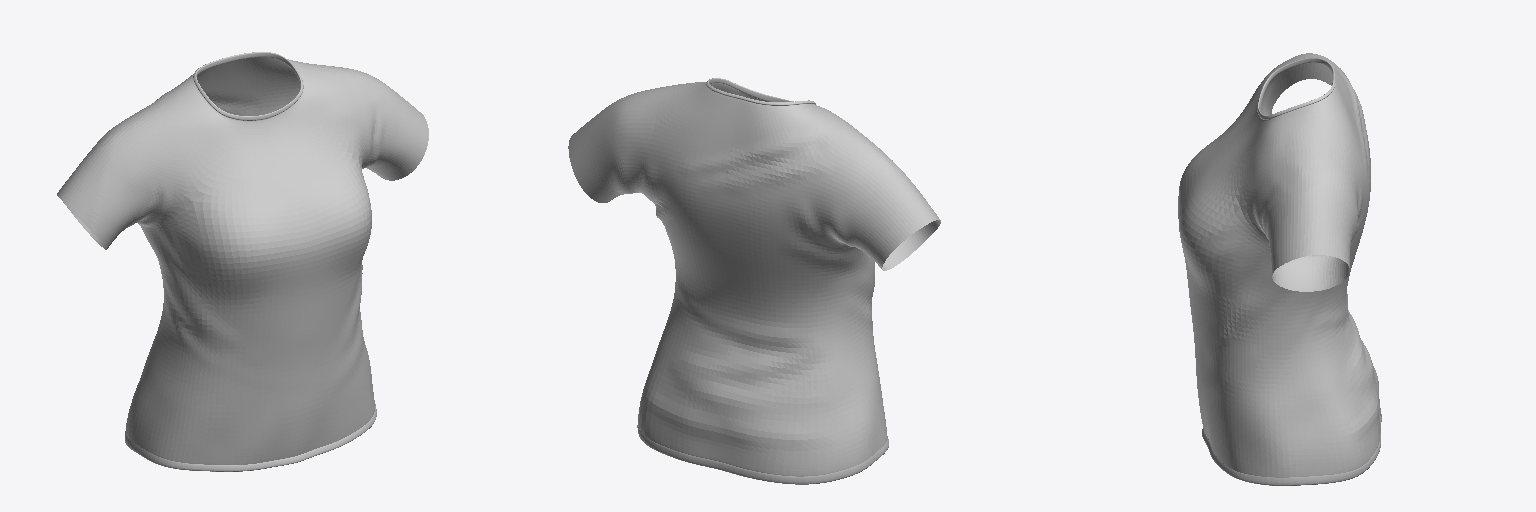
Rendered from grey-tshirt.OBJ.
3 renders of one model, left to right at view 1: azimuth 30°, elevation 25°; view 2: azimuth 150°, elevation 25°; view 3: azimuth 270°, elevation 25°, orthographic.
Parts seen in each view (by area): view 1: Group17612; view 2: Group17612; view 3: Group17612.
Part boxes in pixels (x1,y1,x2,y2): Group17612: (57,52,428,471); Group17612: (568,78,940,484); Group17612: (1178,53,1381,485).
Size of the model in its own units: 59.75 by 56.89 by 29.19.